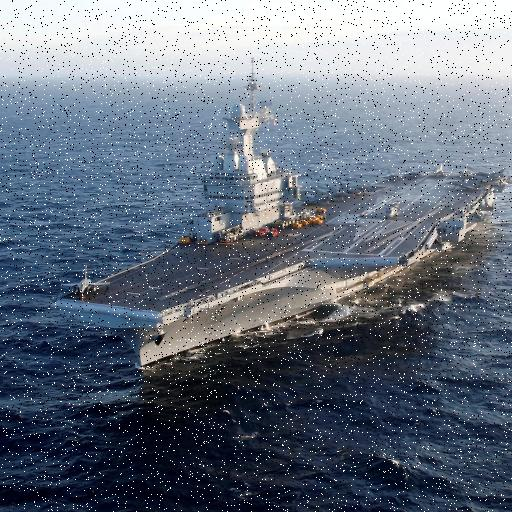Portanaves: (44, 52, 512, 379)
